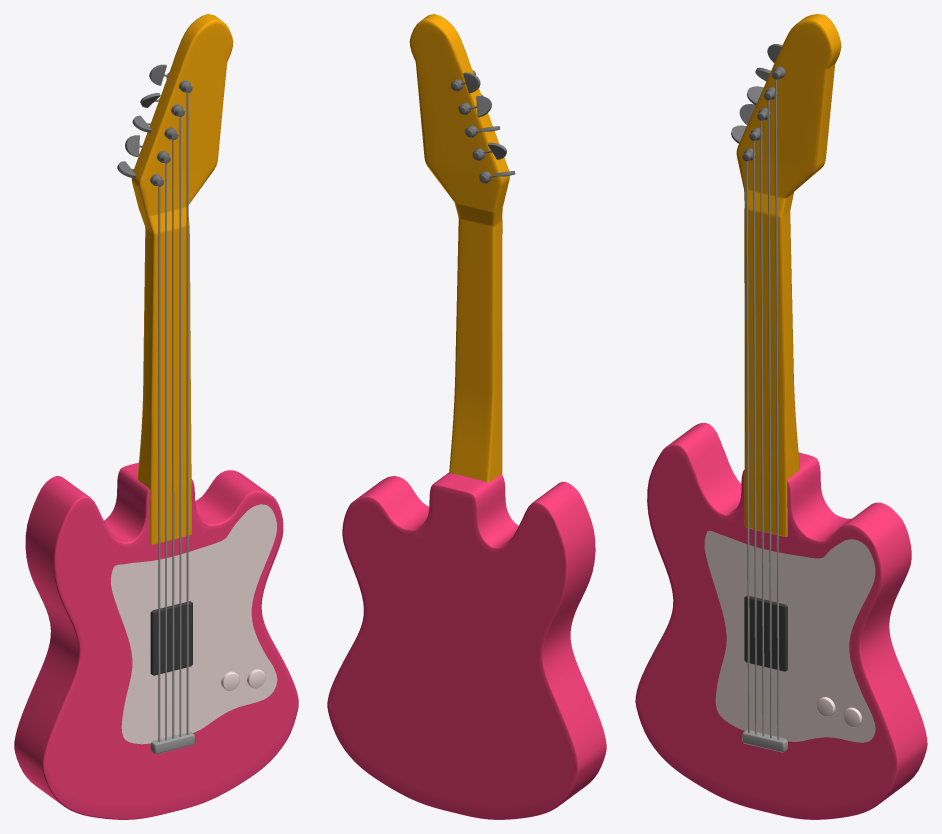
The model's file is Store_13_Guitar_2.glb.
3 renders of one model, left to right at view 1: azimuth 30°, elevation 25°; view 2: azimuth 150°, elevation 25°; view 3: azimuth 330°, elevation 25°, orthographic. The views are drawn at different scales.
Visible parts, largest first — view 1: Store_13_Guitar_2; view 2: Store_13_Guitar_2; view 3: Store_13_Guitar_2.
Boxes of the visible parts, x1,y1,x2,y2 form: Store_13_Guitar_2: (14, 14, 298, 819); Store_13_Guitar_2: (327, 14, 606, 819); Store_13_Guitar_2: (635, 14, 927, 819).
Size of the model in its own units: 0.8143 by 2.37 by 0.1873.
Materials: 1 (1 with a texture image).
